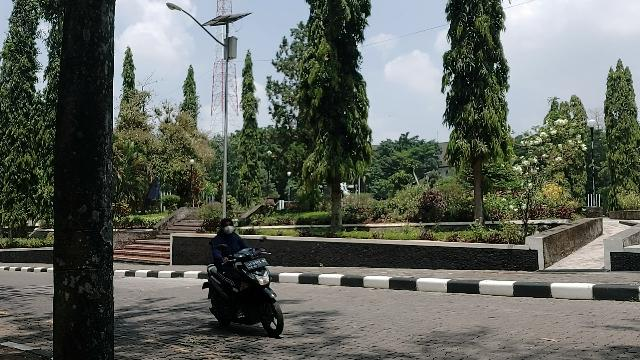motor: (203, 250, 285, 338)
non-helm: (222, 219, 235, 235)
